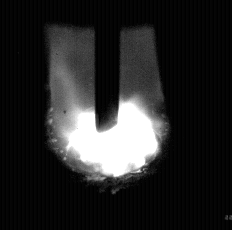arame: (96, 0, 121, 134)
poca: (50, 0, 166, 230)
